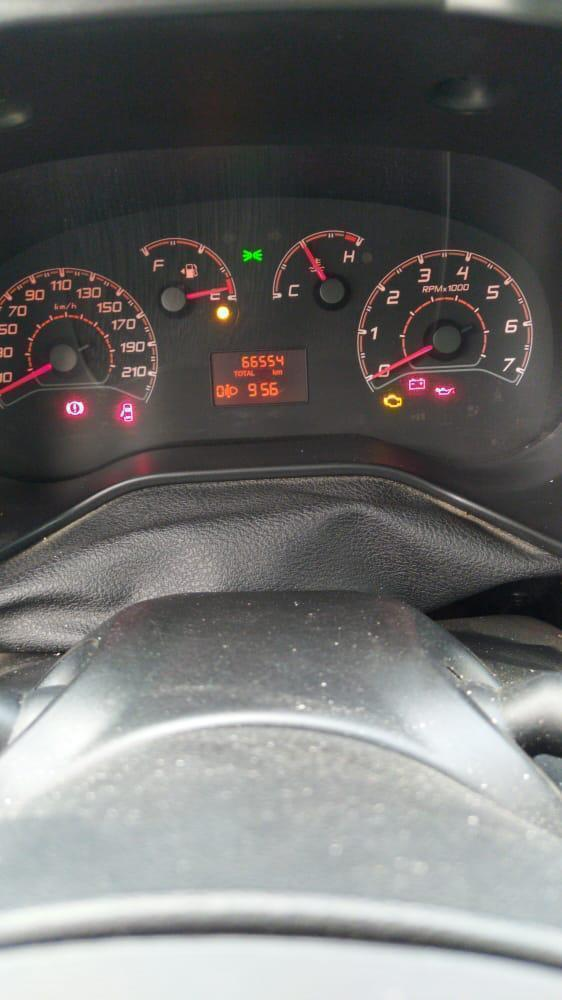0: (216, 385, 224, 397)
4: (275, 354, 284, 366)
5: (259, 381, 269, 396), (258, 354, 266, 367), (267, 354, 274, 367)
6: (269, 381, 279, 396), (241, 355, 249, 368), (250, 355, 258, 368)
9: (247, 382, 257, 396)
X: (237, 370, 243, 376), (277, 369, 283, 375), (242, 369, 247, 376), (251, 369, 255, 377), (233, 369, 237, 376), (272, 368, 276, 375), (247, 369, 250, 376)
odometer: (207, 346, 308, 407)
